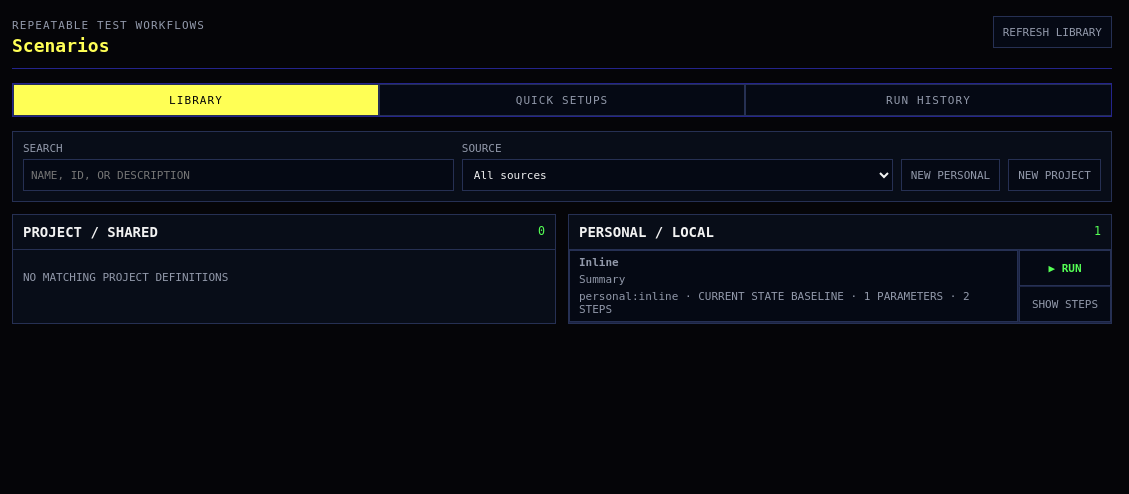
Test: Scenarios workspace › expands catalog-aware Library summaries and retains full long argument values
The width and height of the screenshot is (1129, 494).
What coordinates should you click on to do the following:
click the button "SHOW STEPS"
I would click on:
 (1065, 304)
Its box is x1=1019 y1=286 x2=1111 y2=322.
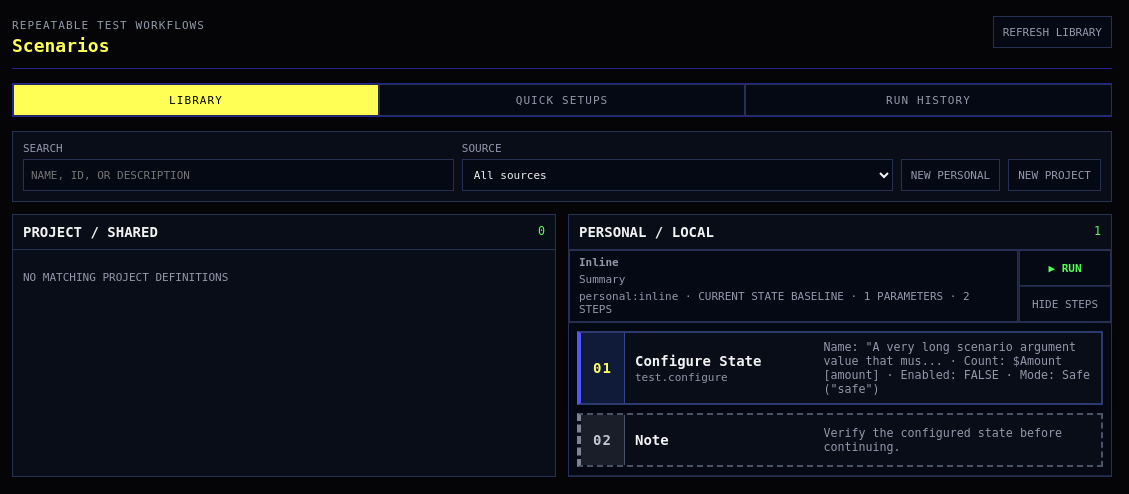
Result: the list item that starts with "Configure State" is shown at x1=635 y1=352 x2=761 y2=368
Result: the list item that starts with "Configure State" shows "Count: $Amount [amount]" at x1=823 y1=340 x2=1090 y2=396
Result: the list item that starts with "Configure State" shows "Mode: Safe (\"safe\")" at x1=823 y1=340 x2=1090 y2=396
